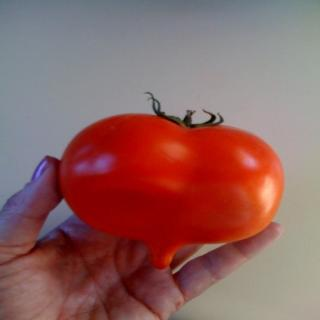tomato: (58, 92, 287, 272)
